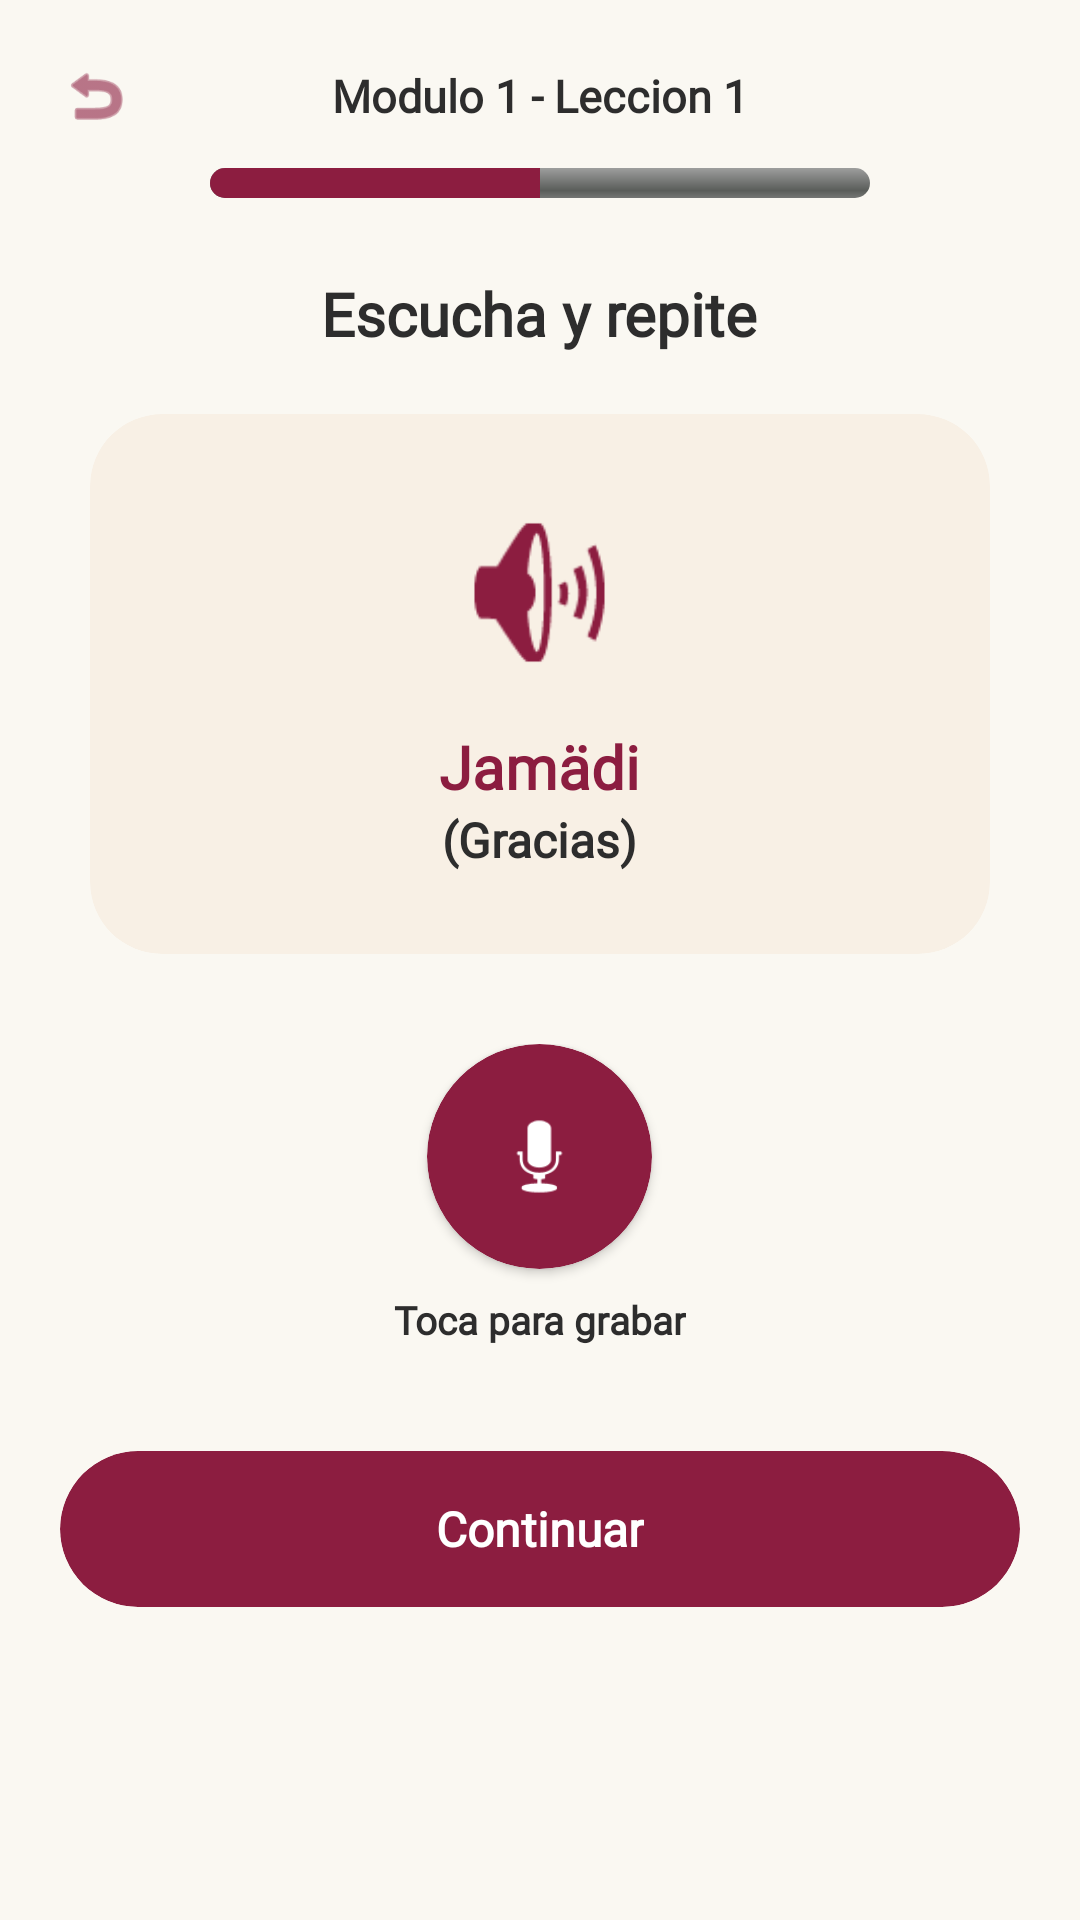

Named icons in this screenshot (1080*1920) and their bounding boxes, (x1, y1, x2, y2):
Escuchar palabra: (474, 523, 605, 662)
Grabar voz: (516, 1120, 563, 1193)
Volver: (71, 73, 123, 120)
